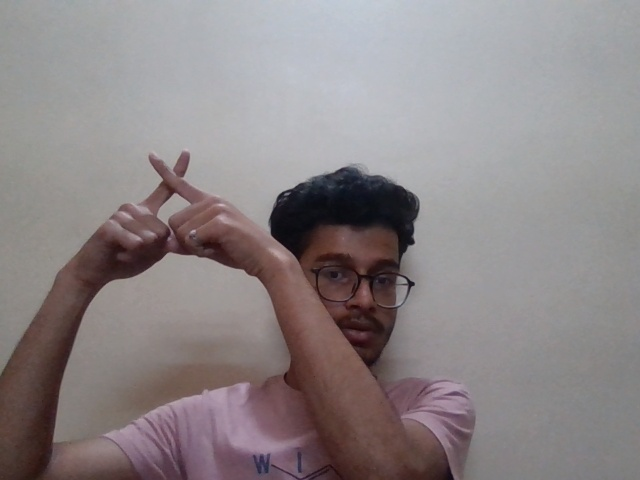X: (58, 149, 282, 312)
